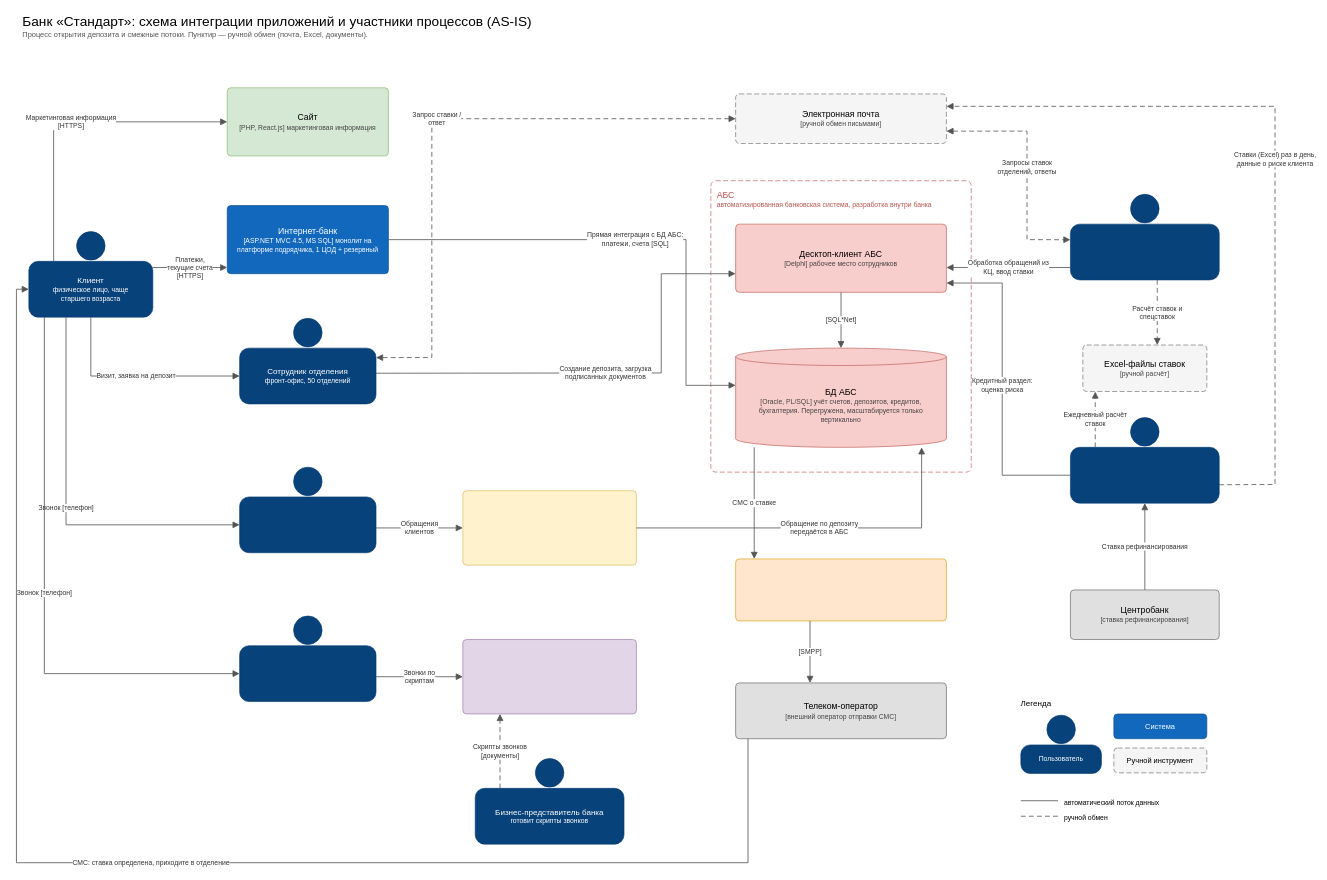
The diagram is 1327 pixels wide and 880 high, and some of its shapes have lost their labels. Here are the shapes that lost their labels. From the top down, the centre of each, then its label:
point (1144, 252): Менеджер бэк-офиса депозитов 50 сотрудников
point (1144, 475): Сотрудник бэк-офиса кредитов 50 сотрудников
point (307, 524): Оператор кол-центра 200 операторов банка
point (549, 527): Система кол-центра [React.js, Java Spring Boot, PostgreSQL] платформа подрядчика
point (840, 589): СМС-шлюз [сопровождает IT-отдел банка]
point (307, 673): Оператор партнёрского КЦ 100 операторов, внешняя компания
point (549, 676): Система партнёрского КЦ [внешняя система партнёра]
